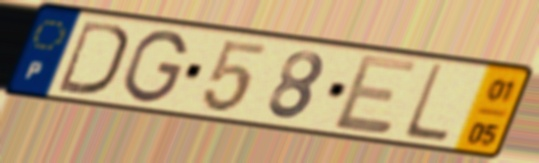5: (199, 36, 271, 114)
8: (267, 49, 327, 122)
D: (54, 17, 132, 98)
E: (330, 51, 422, 137)
G: (119, 28, 190, 105)
L: (398, 61, 452, 146)
